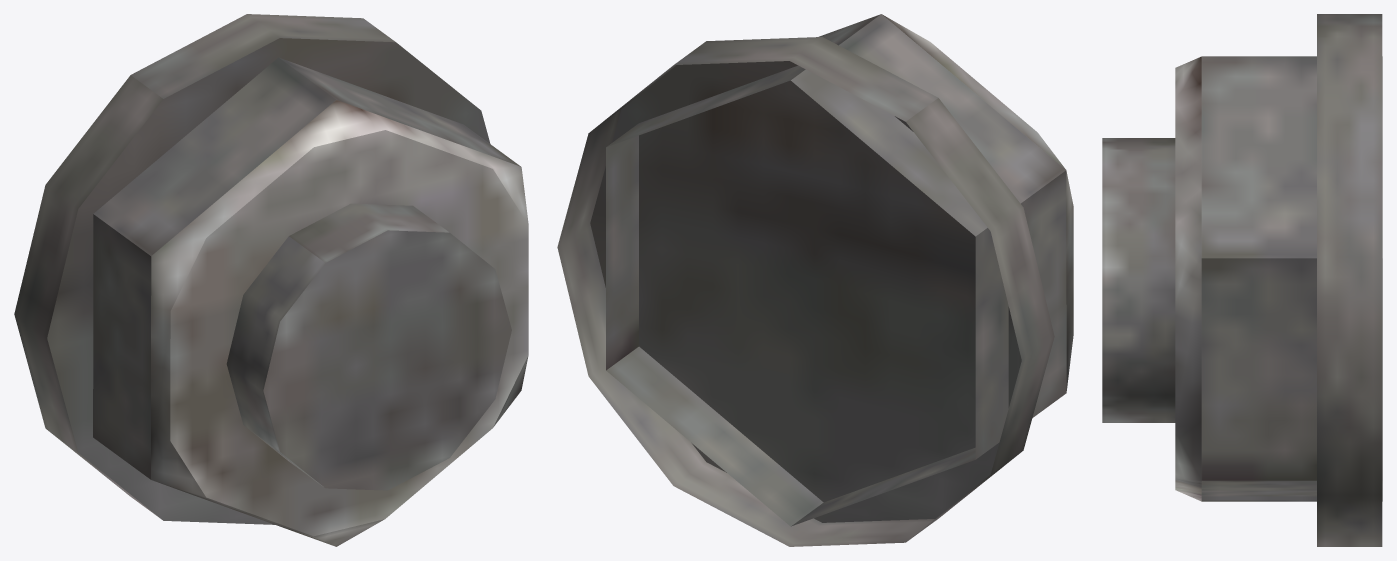
The model's file is p_rus_angle_plate_bolt_LOD0.obj.
The picture shows the model from 3 angles, left to right: view 1: azimuth 30°, elevation 25°; view 2: azimuth 150°, elevation 25°; view 3: azimuth 270°, elevation 25°; orthographic projection.
Visible parts, largest first — view 1: mtl_p_rus_angle_plate; view 2: mtl_p_rus_angle_plate; view 3: mtl_p_rus_angle_plate.
Part boxes in pixels (x1=…): mtl_p_rus_angle_plate: x1=14, y1=14, x2=528, y2=546; mtl_p_rus_angle_plate: x1=557, y1=14, x2=1073, y2=546; mtl_p_rus_angle_plate: x1=1102, y1=14, x2=1382, y2=546.
Bounding box in the file's own units: 5.49 × 5.49 × 2.88.
